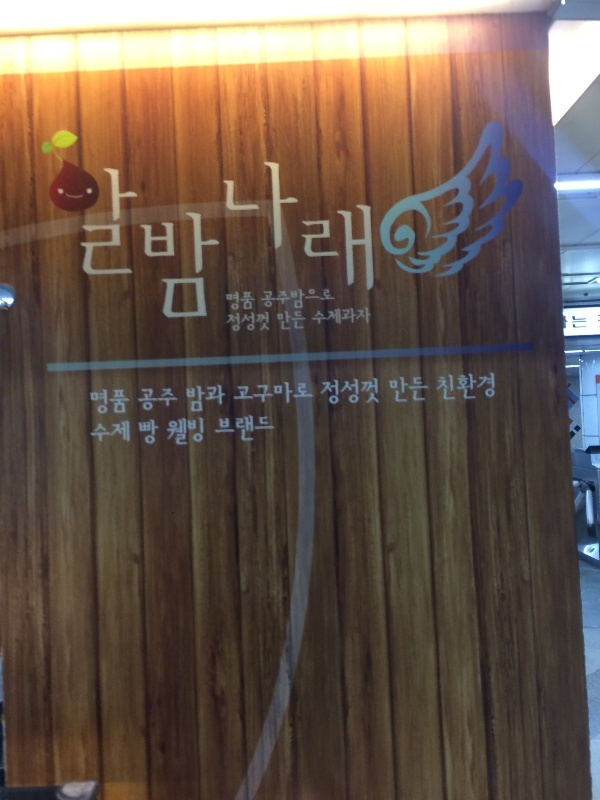text: (49, 131, 64, 282), (65, 131, 80, 282), (81, 131, 96, 282), (97, 131, 112, 282), (113, 131, 128, 282), (129, 131, 141, 282), (145, 208, 160, 323), (161, 208, 176, 323), (177, 208, 192, 323), (193, 208, 208, 323), (209, 208, 223, 323), (225, 156, 240, 260), (241, 156, 256, 260), (257, 156, 272, 260), (273, 156, 288, 260), (305, 200, 320, 294), (321, 200, 336, 294), (337, 200, 352, 294), (353, 200, 368, 294), (41, 131, 48, 282), (289, 156, 299, 260), (369, 200, 377, 294), (139, 208, 144, 323), (145, 415, 160, 448), (161, 415, 176, 448), (177, 415, 192, 448), (193, 383, 208, 416), (209, 383, 224, 416), (97, 388, 112, 420), (113, 388, 128, 420), (299, 200, 304, 294), (449, 371, 464, 402), (465, 371, 480, 402), (481, 371, 496, 402), (321, 377, 336, 407), (337, 377, 352, 407), (353, 377, 368, 407), (225, 415, 240, 444), (241, 415, 256, 444), (257, 415, 272, 444), (97, 418, 112, 446), (113, 418, 128, 446), (241, 379, 256, 406), (257, 379, 272, 406), (273, 379, 288, 406), (289, 379, 304, 406), (401, 377, 416, 404), (145, 387, 160, 413), (161, 387, 176, 413), (436, 371, 448, 402), (193, 415, 204, 448), (273, 288, 288, 312), (289, 288, 304, 312), (305, 288, 320, 312), (417, 377, 430, 404), (321, 288, 335, 312), (369, 377, 380, 407), (241, 311, 256, 333), (321, 306, 336, 328), (337, 306, 352, 328), (353, 306, 368, 328), (289, 311, 304, 332), (241, 292, 256, 313), (226, 311, 240, 333), (389, 377, 400, 404), (226, 292, 240, 313), (257, 311, 270, 333), (305, 379, 315, 406), (261, 288, 272, 312), (215, 415, 224, 444), (277, 311, 288, 332), (138, 415, 144, 448), (186, 383, 192, 416), (90, 388, 96, 420), (312, 306, 320, 328), (90, 418, 96, 446), (234, 379, 240, 406), (138, 387, 144, 413), (223, 156, 224, 260), (129, 388, 132, 420), (225, 383, 227, 416), (369, 306, 372, 328), (273, 415, 275, 444), (129, 418, 131, 446), (177, 387, 179, 413), (305, 311, 306, 332)
